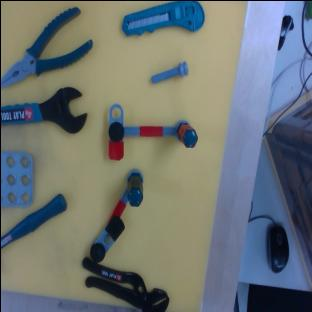non_pass: (79, 167, 153, 265)
pass: (107, 105, 197, 159)
